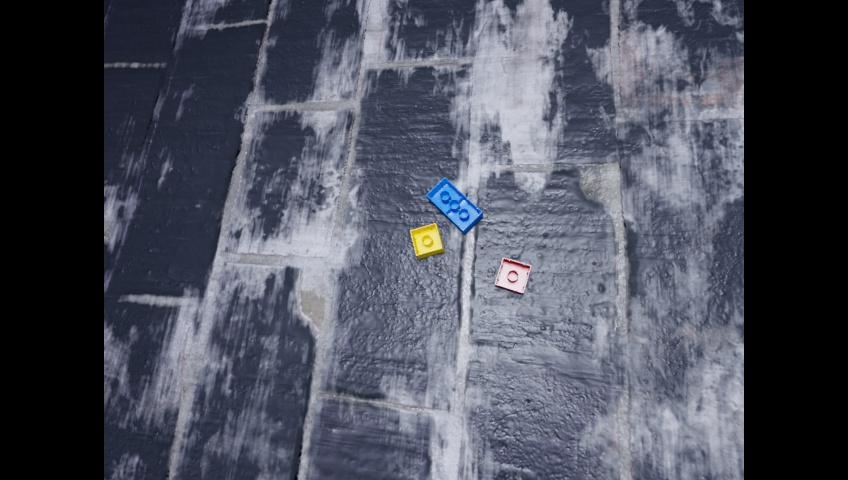2x2_red: (495, 257, 530, 294)
2x2_yellow: (410, 223, 443, 258)
4x2_blue: (426, 176, 482, 234)
